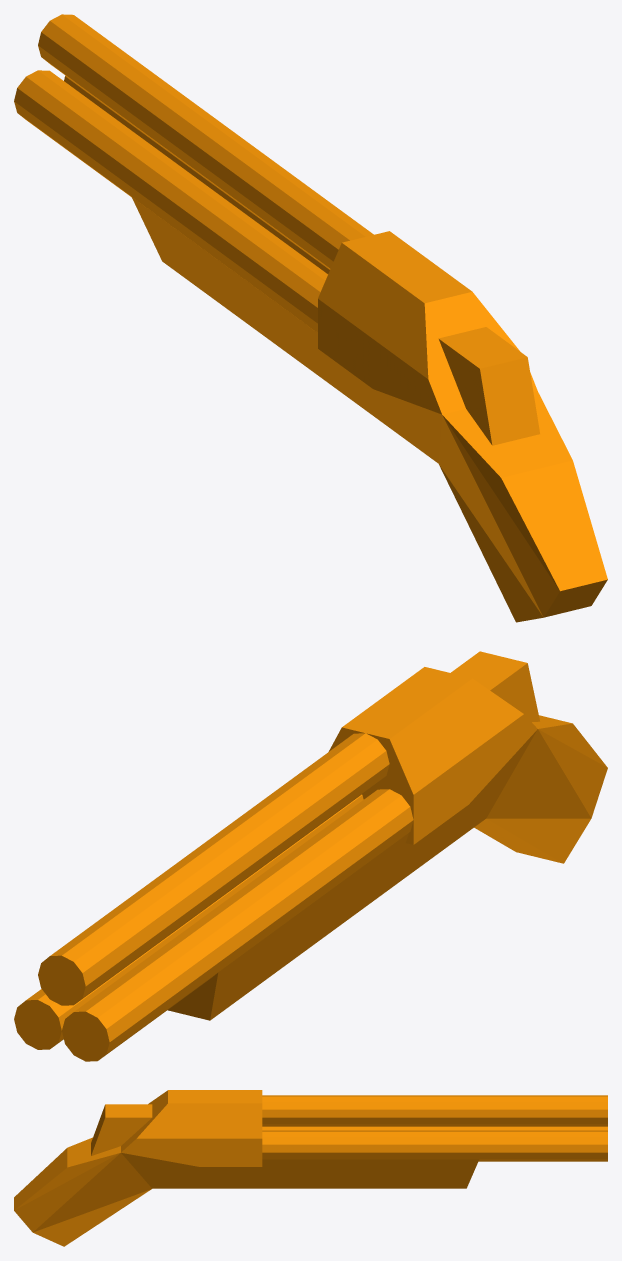
The picture shows the model from 3 angles, top to bottom: view 1: azimuth 30°, elevation 25°; view 2: azimuth 150°, elevation 25°; view 3: azimuth 270°, elevation 25°; orthographic projection. The views are drawn at different scales.
Visible parts, largest first — view 1: mesh_1500122055, mesh_1220418920, mesh_725920552, mesh_1291674878, mesh_813794705, mesh_964330119, mesh_834424939, mesh_1627079884, mesh_198898665; view 2: mesh_1220418920, mesh_725920552, mesh_1500122055, mesh_813794705, mesh_834424939, mesh_1291674878, mesh_198898665, mesh_964330119, mesh_1627079884; view 3: mesh_1220418920, mesh_198898665, mesh_1500122055, mesh_834424939, mesh_813794705, mesh_1291674878, mesh_964330119, mesh_1627079884, mesh_725920552.
Boxes of the visible parts, box(x1,y1,x2,y2) form: mesh_1500122055: box(383, 391, 607, 622); mesh_1220418920: box(38, 14, 373, 268); mesh_725920552: box(14, 70, 327, 332); mesh_1291674878: box(373, 271, 537, 414); mesh_813794705: box(318, 231, 444, 388); mesh_964330119: box(438, 327, 539, 445); mesh_834424939: box(131, 197, 327, 382); mesh_1627079884: box(309, 327, 396, 432); mesh_198898665: box(64, 75, 330, 273); mesh_1220418920: box(38, 733, 389, 1005); mesh_725920552: box(62, 789, 413, 1061); mesh_1500122055: box(445, 715, 607, 863); mesh_813794705: box(328, 687, 468, 844); mesh_834424939: box(167, 843, 394, 1020); mesh_1291674878: box(397, 667, 537, 804); mesh_198898665: box(14, 794, 363, 1049); mesh_964330119: box(451, 651, 539, 721); mesh_1627079884: box(376, 813, 456, 898); mesh_1220418920: box(262, 1095, 607, 1126); mesh_198898665: box(262, 1130, 607, 1161); mesh_1500122055: box(14, 1137, 199, 1246); mesh_834424939: box(278, 1159, 479, 1188); mesh_813794705: box(199, 1090, 262, 1166); mesh_1291674878: box(121, 1090, 199, 1166); mesh_964330119: box(91, 1104, 152, 1155); mesh_1627079884: box(199, 1159, 277, 1188); mesh_725920552: box(262, 1126, 607, 1130).
Size of the model in its own units: 4 by 10.08 by 37.81.
